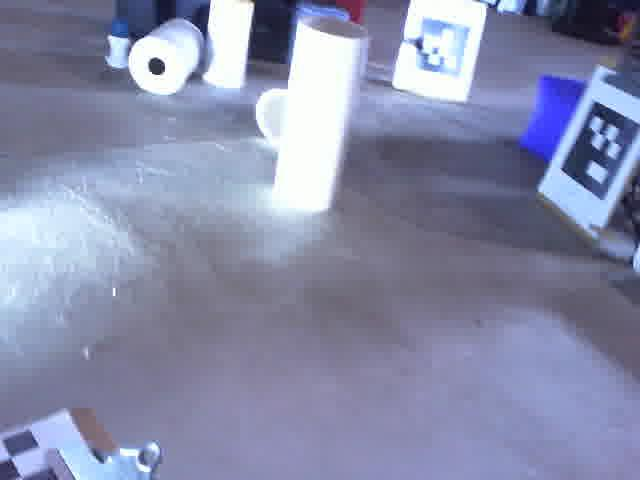coral: (271, 14, 374, 226), (200, 0, 254, 94)
